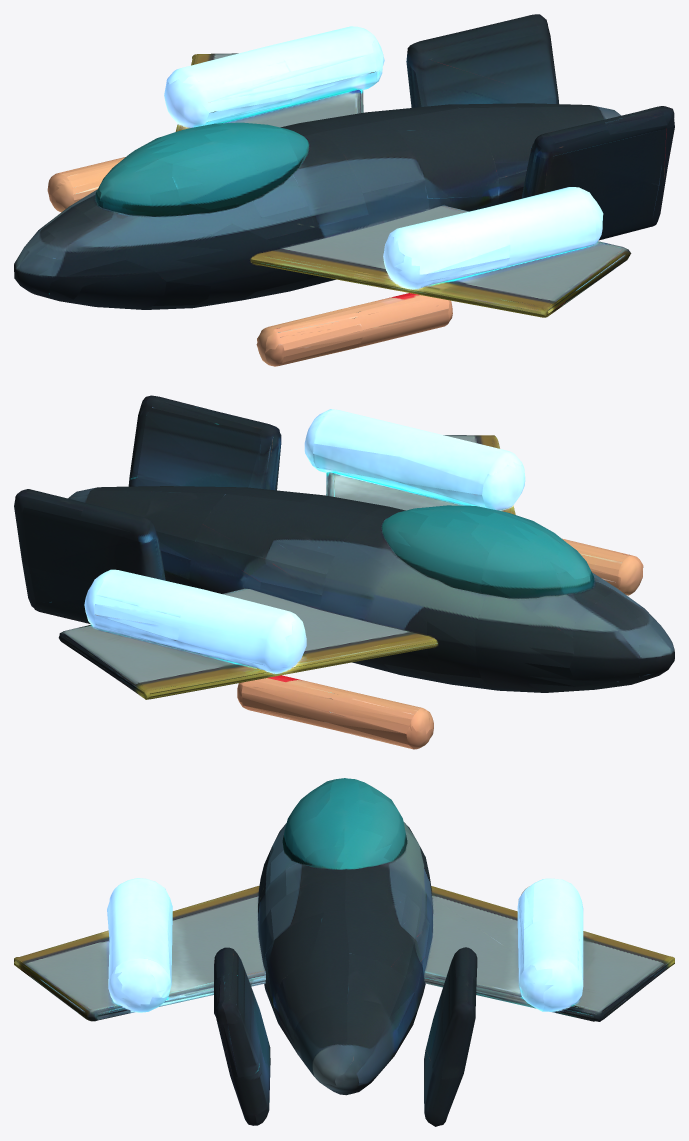
File: aerospace-fighter.glb
3 views of the same model, one above another, from view 1: azimuth 30°, elevation 25°; view 2: azimuth 150°, elevation 25°; view 3: azimuth 270°, elevation 25° (orthographic). The views are drawn at different scales.
Bounding box in the file's own units: 1 × 0.2617 × 1.
Materials: 1 (1 with a texture image).
